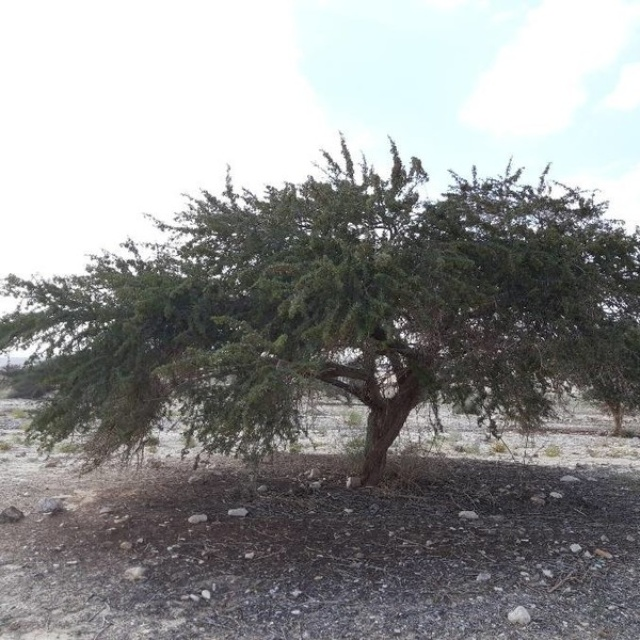obstacle: (35, 123, 575, 495)
